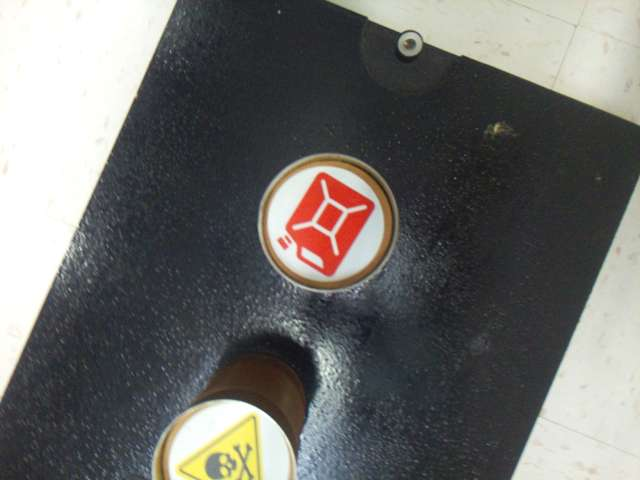gasoline: (264, 164, 385, 284)
toxic_fluid: (169, 401, 289, 479)
